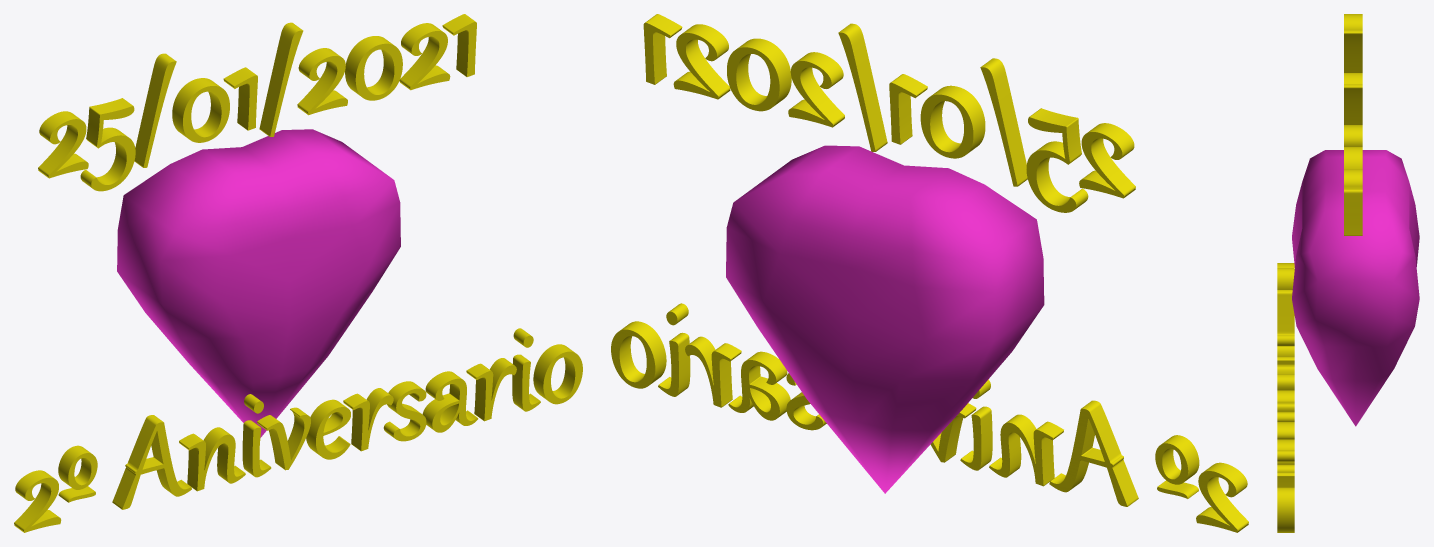
File: 2_Aniversario_Boda.glb
3 renders of one model, left to right at view 1: azimuth 30°, elevation 25°; view 2: azimuth 150°, elevation 25°; view 3: azimuth 270°, elevation 25°, orthographic. The views are drawn at different scales.
Visible parts, largest first — view 1: Cube, Text, Text.001; view 2: Cube, Text.001, Text; view 3: Cube, Text, Text.001.
Boxes of the visible parts, bbox=[...] form: Cube: bbox=[117, 129, 400, 437]; Text: bbox=[14, 328, 582, 532]; Text.001: bbox=[38, 14, 476, 191]; Cube: bbox=[726, 145, 1044, 493]; Text.001: bbox=[643, 14, 1135, 212]; Text: bbox=[611, 303, 1248, 532]; Cube: bbox=[1292, 150, 1419, 426]; Text: bbox=[1277, 263, 1294, 532]; Text.001: bbox=[1344, 14, 1362, 235].
Bounding box in the file's own units: 3.89 × 2.7 × 0.9782.
